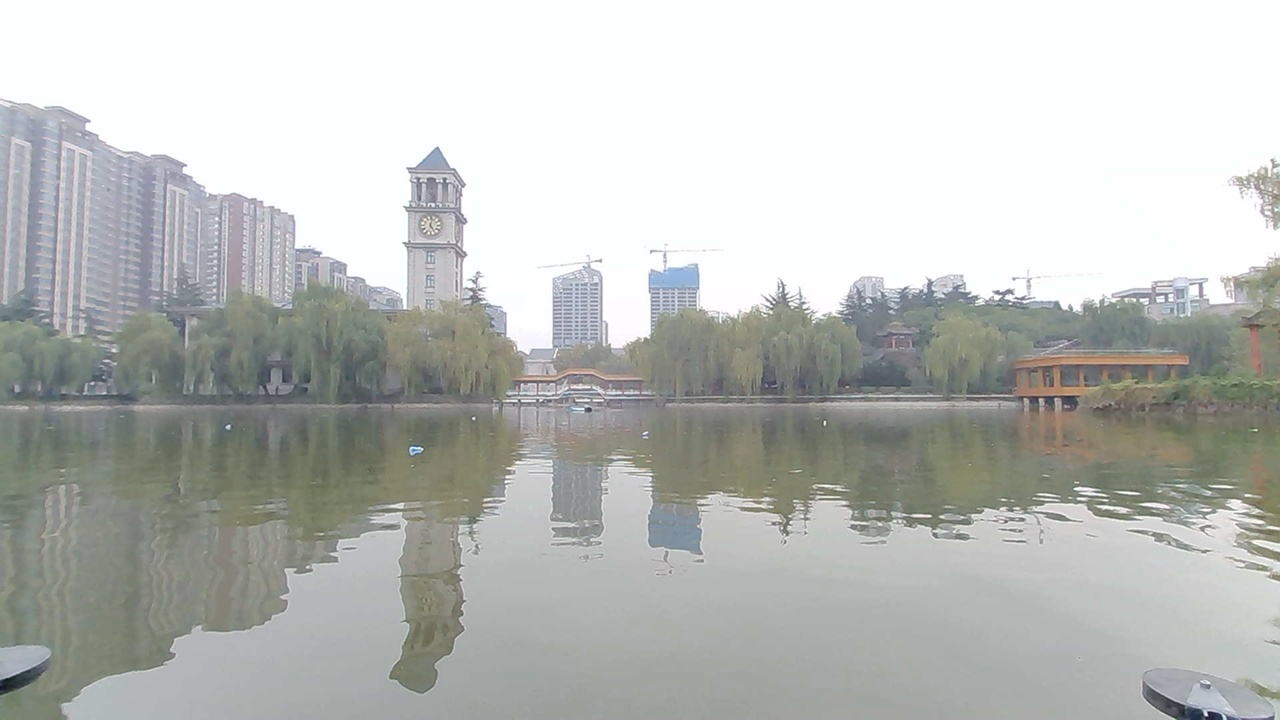bottle: (625, 422, 659, 449), (212, 409, 250, 433), (806, 407, 836, 433), (401, 443, 438, 464), (466, 404, 495, 426)
